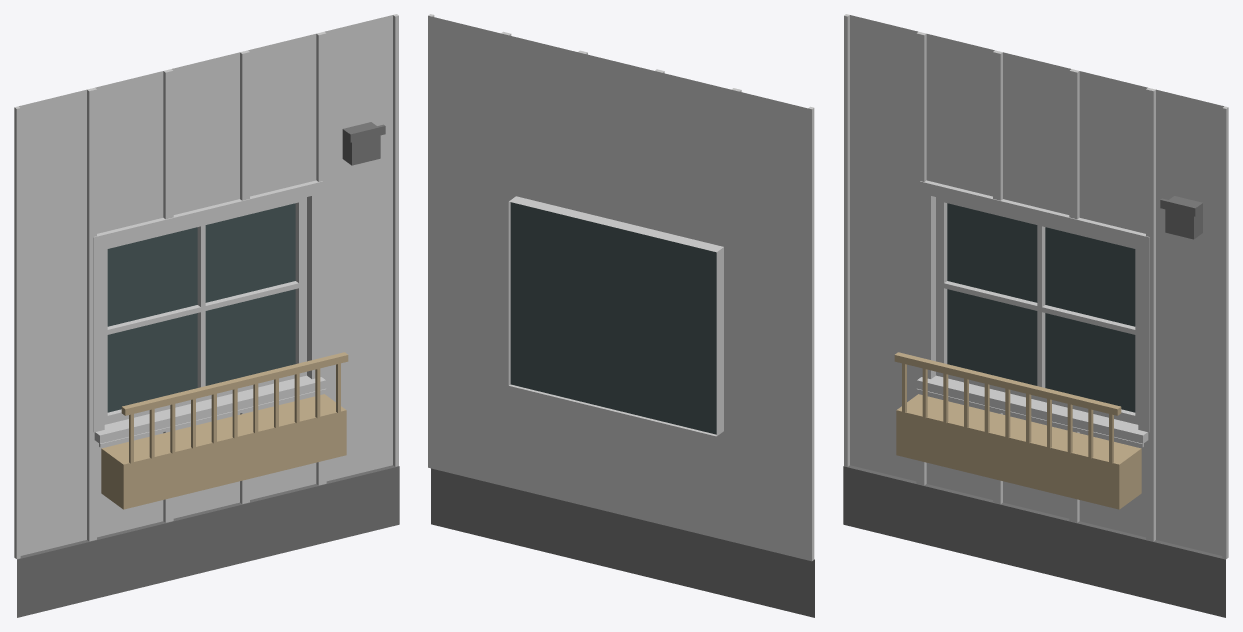
Rendered from base-w3_close.fbx.
3 renders of one model, left to right at view 1: azimuth 30°, elevation 25°; view 2: azimuth 150°, elevation 25°; view 3: azimuth 330°, elevation 25°, orthographic.
Visible parts, largest first — view 1: a2015/200/base-w3_close; view 2: a2015/200/base-w3_close; view 3: a2015/200/base-w3_close.
Boxes of the visible parts, box(x1,y1,x2,y2) form: a2015/200/base-w3_close: box(14, 14, 399, 617); a2015/200/base-w3_close: box(428, 14, 814, 617); a2015/200/base-w3_close: box(843, 14, 1228, 617).
Bounding box in the file's own units: 2.4 × 3.05 × 0.42.
